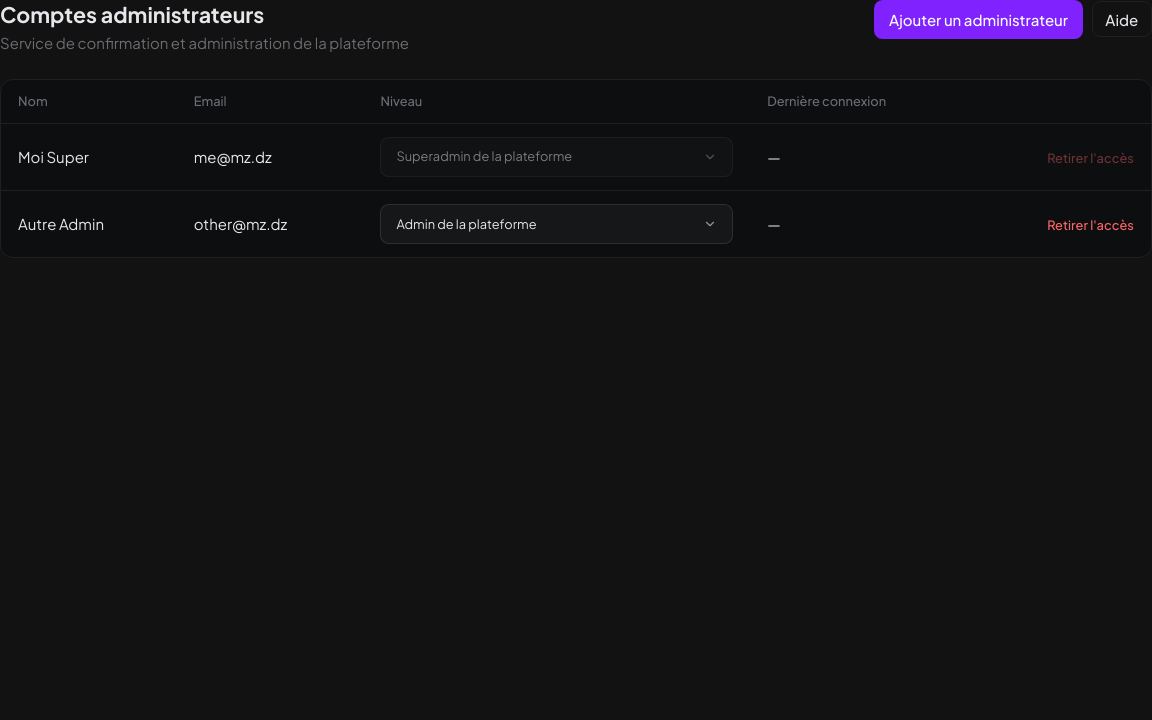
Test: PlatformAdminAdminsPage › shows the one-time activation link after creating an admin
The width and height of the screenshot is (1152, 720).
Check: the text "other@mz.dz" is shown, box left=177, top=191, right=363, bottom=257
Click the button "Ajouter un administrateur".
click(978, 19)  # box left=874, top=0, right=1083, bottom=38
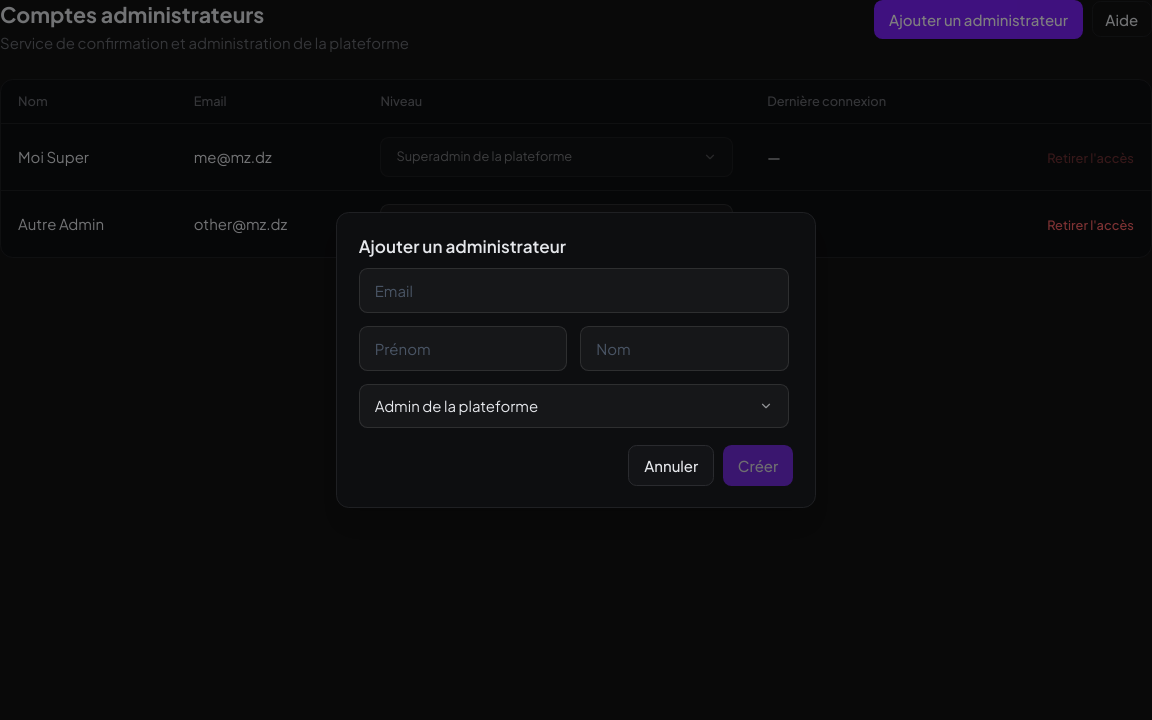
Type "new@mz.dz" into the field with placeholder "Email".
click(574, 291); type("new@mz.dz")  # box left=359, top=268, right=789, bottom=313
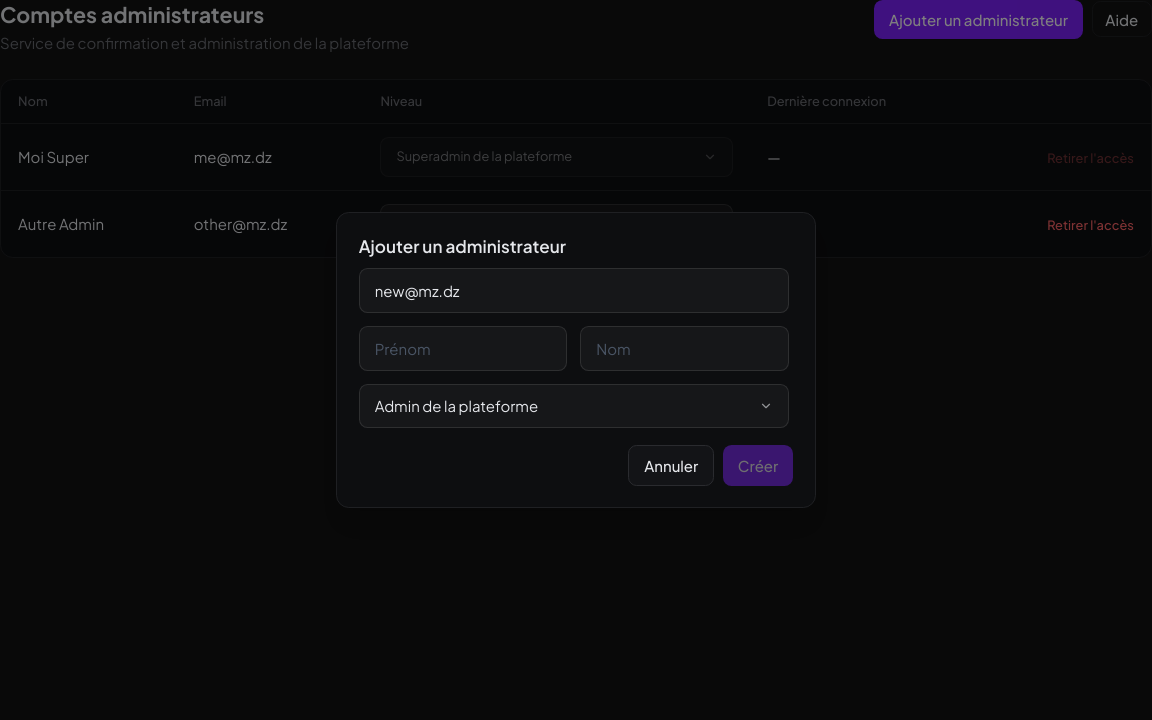
Type "Nina" into the field with placeholder "Prénom".
click(463, 348); type("Nina")  # box left=359, top=326, right=567, bottom=371
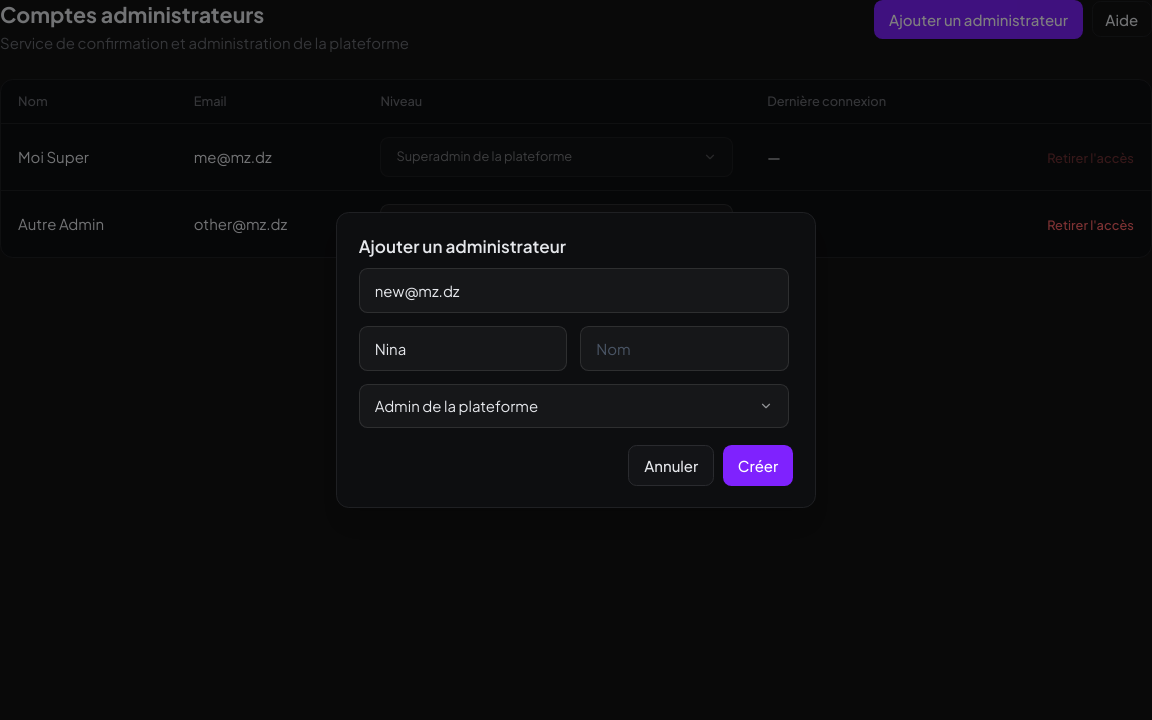
Click the button "Créer".
click(758, 466)  # box left=723, top=445, right=793, bottom=486
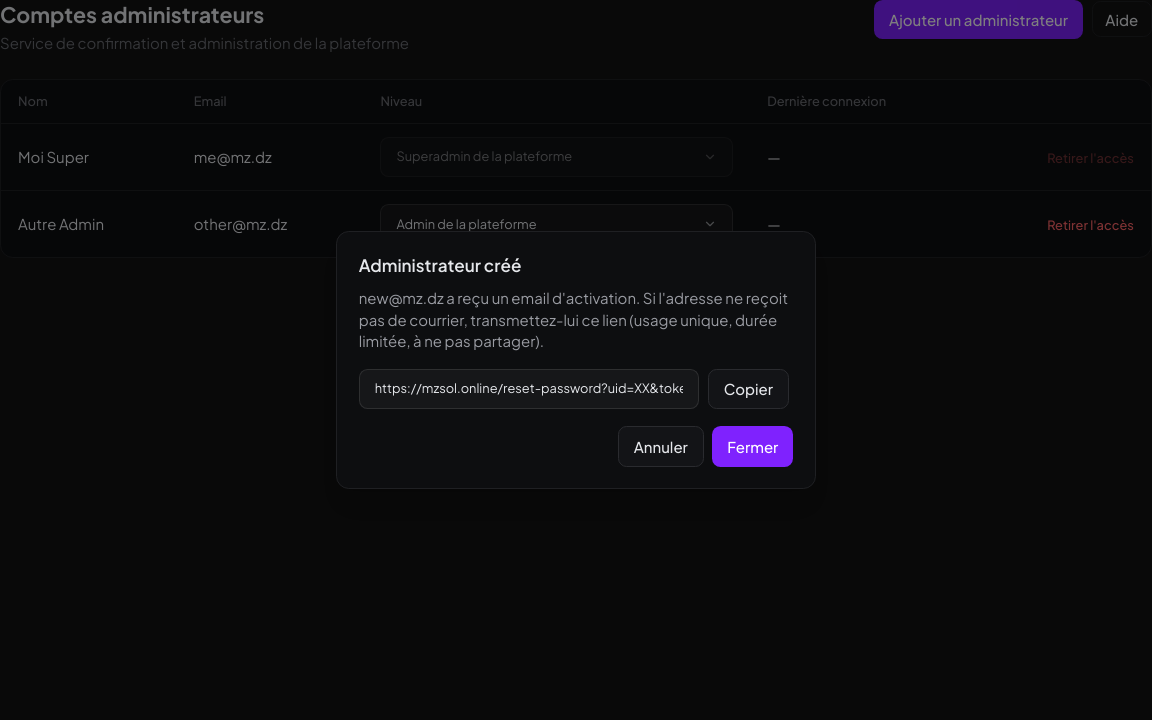
Check: the field named "Lien d'activation" holds "https://mzsol.online/reset-password?uid=XX&token=YY", box left=359, top=369, right=699, bottom=409
Check: the button "Copier" is shown, box left=708, top=369, right=789, bottom=409
